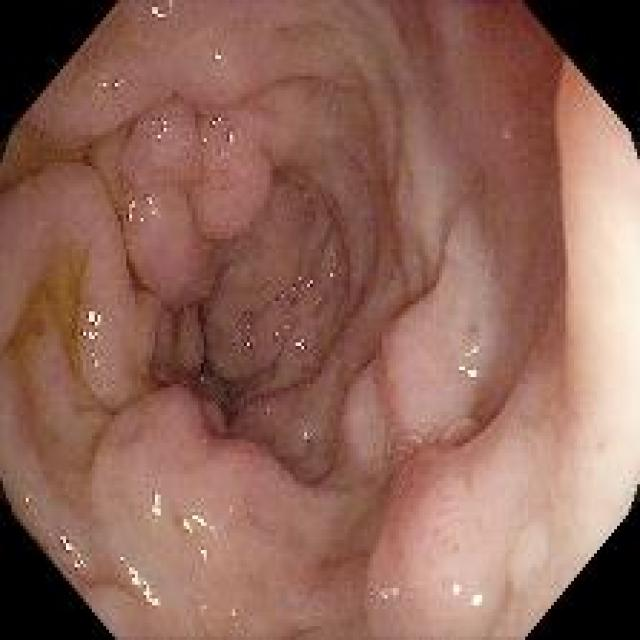Polyps: (367, 440, 509, 638), (383, 291, 475, 445), (193, 150, 272, 240)
